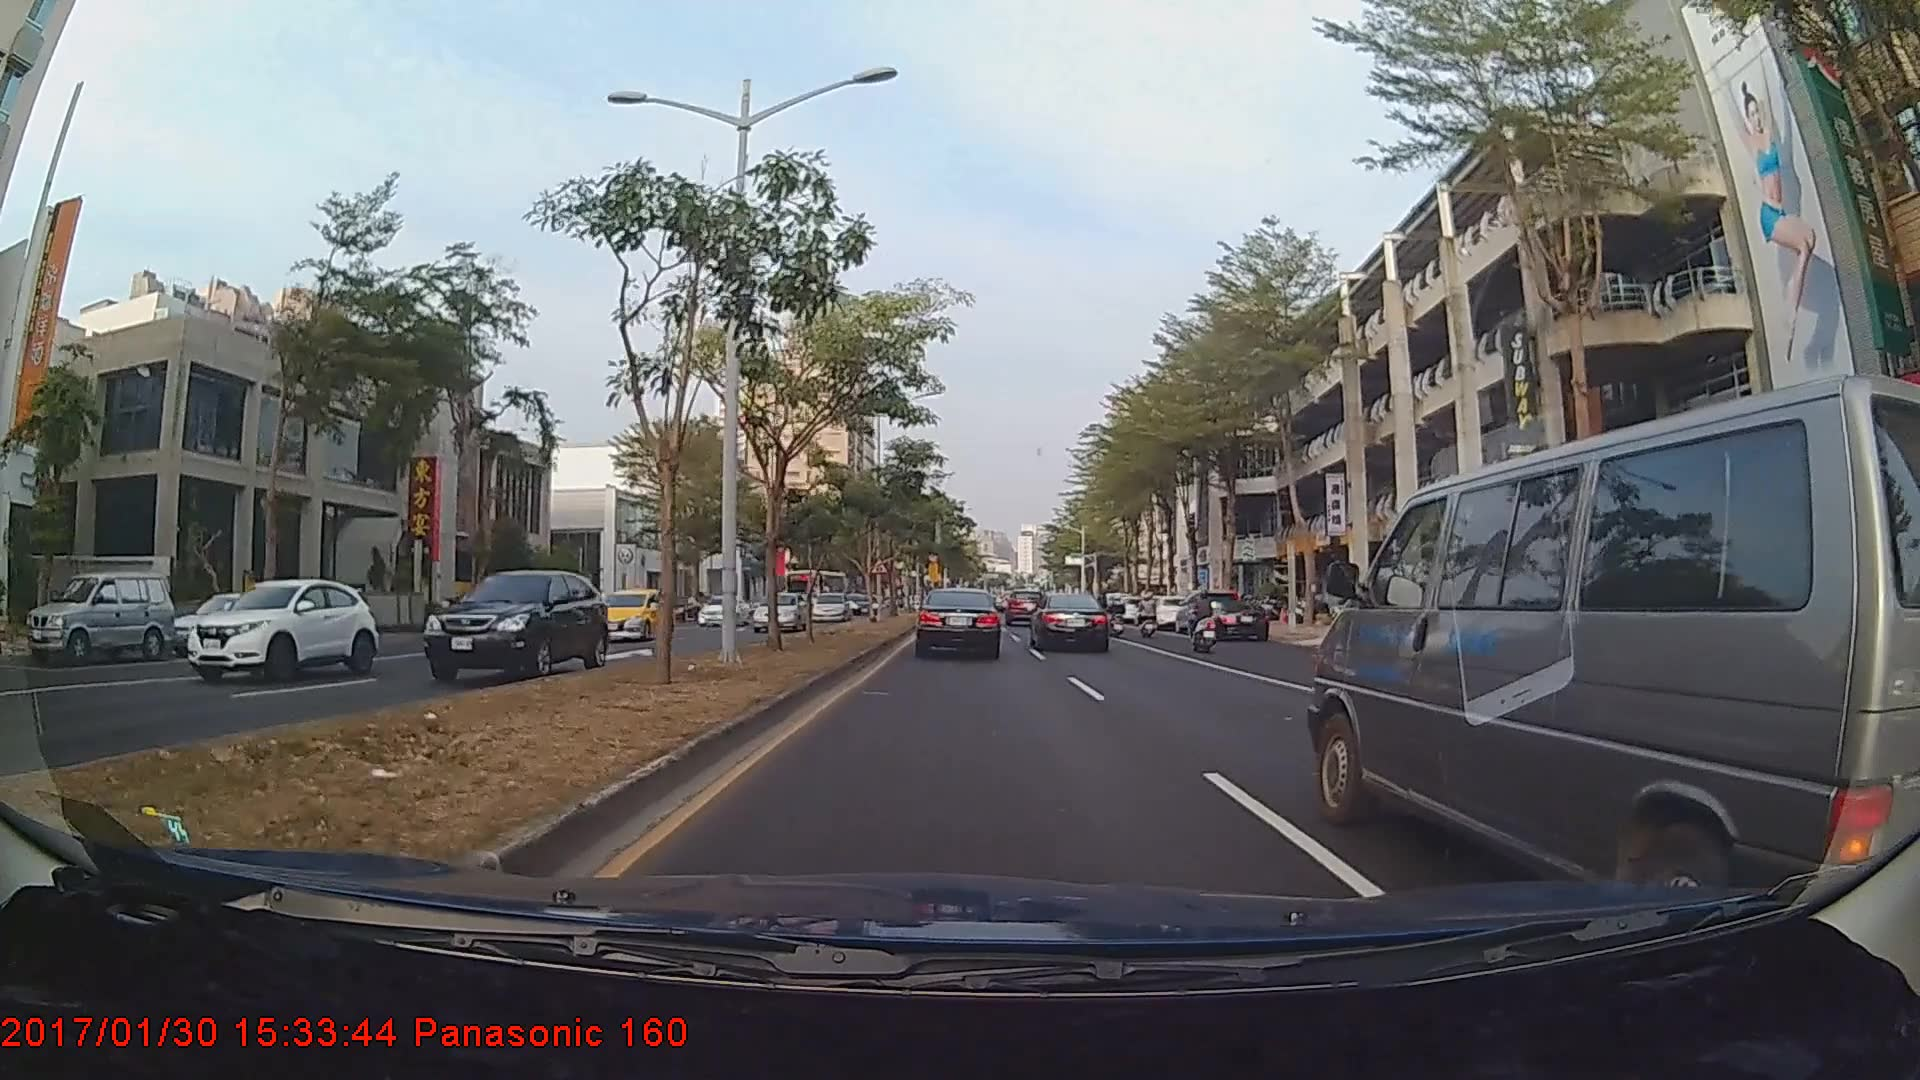rider: (1184, 587, 1223, 659), (1135, 588, 1162, 642)
vehicle: (1304, 398, 1893, 900), (420, 569, 609, 683), (184, 577, 382, 687), (21, 568, 177, 666), (917, 585, 1002, 658), (1031, 590, 1110, 653), (585, 587, 674, 641), (1194, 602, 1268, 645), (783, 570, 848, 618), (749, 591, 807, 634), (695, 593, 749, 628), (810, 590, 850, 623), (1005, 589, 1043, 624)
